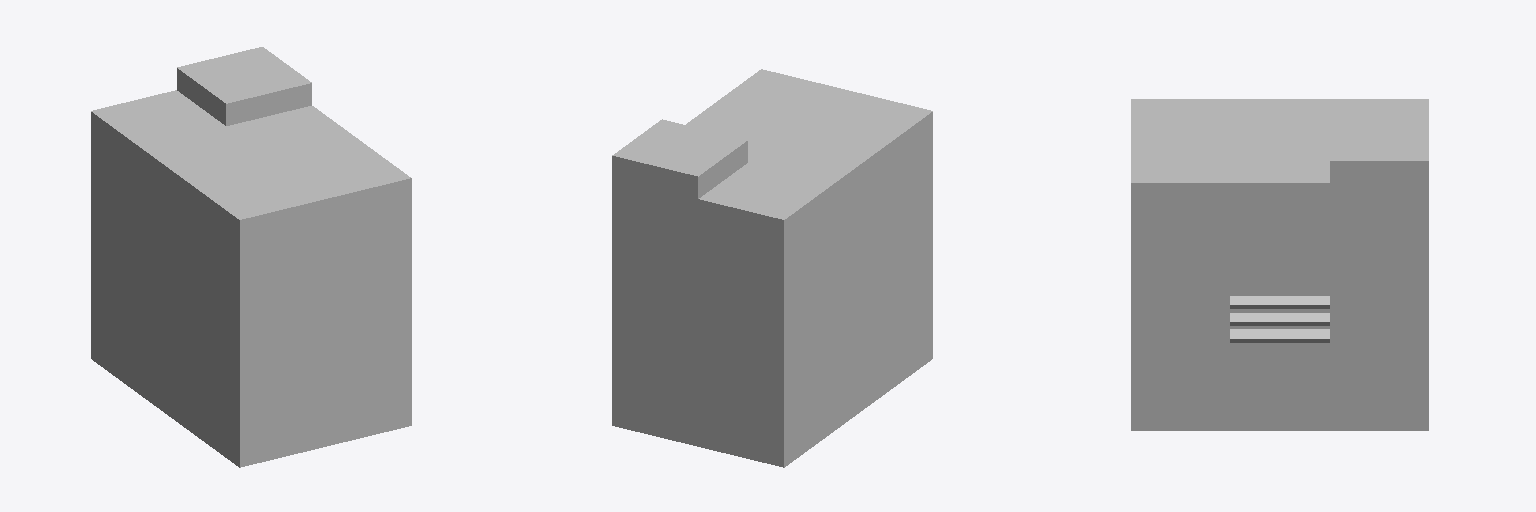
Rendered from tresher.obj.
3 views of the same model, side by side, from view 1: azimuth 30°, elevation 25°; view 2: azimuth 150°, elevation 25°; view 3: azimuth 270°, elevation 25° (orthographic).
Parts seen in each view (by area): view 1: cube; view 2: cube; view 3: cube.
Boxes of the visible parts, box(x1,y1,x2,y2) form: cube: box(91, 47, 411, 467); cube: box(612, 69, 932, 467); cube: box(1131, 99, 1428, 430).
Size of the model in its own units: 2.11 by 3 by 3.